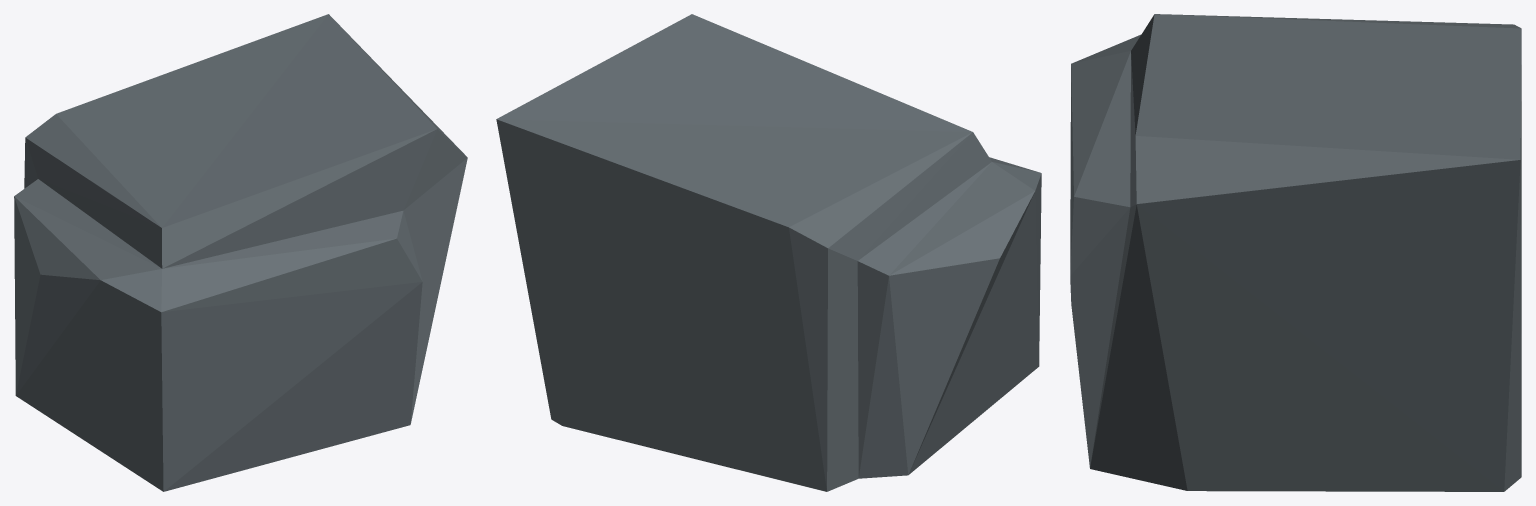
The model's file is Rock_Layered_1.fbx.
The picture shows the model from 3 angles, left to right: view 1: azimuth 30°, elevation 25°; view 2: azimuth 150°, elevation 25°; view 3: azimuth 270°, elevation 25°; orthographic projection. The views are drawn at different scales.
Parts seen in each view (by area): view 1: Group19553; view 2: Group19553; view 3: Group19553.
Part boxes in pixels (x1,y1,x2,y2): Group19553: [14, 14, 467, 491]; Group19553: [496, 14, 1041, 491]; Group19553: [1070, 14, 1521, 491].
Bounding box in the file's own units: 109 × 75.23 × 85.08.
